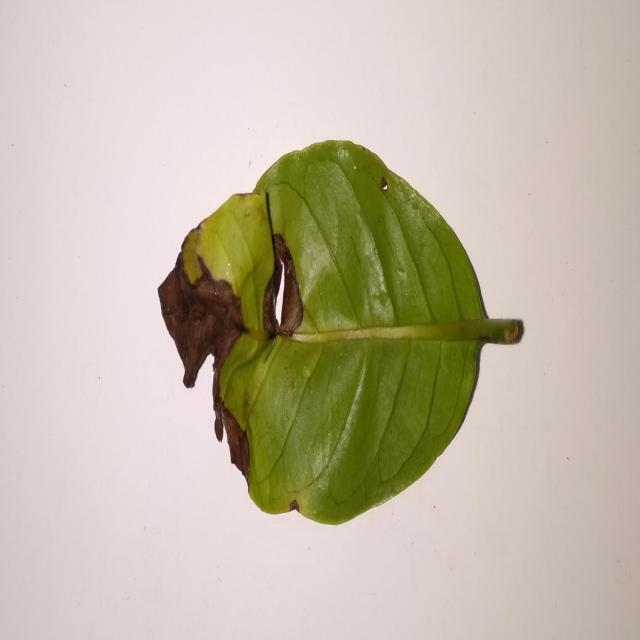Enfermedad-Antracnosis: (156, 141, 525, 529)
